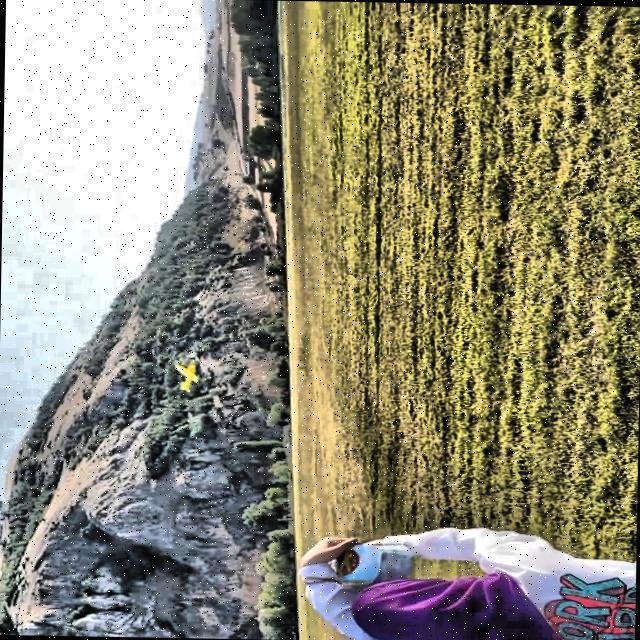iha: (168, 352, 207, 401)
